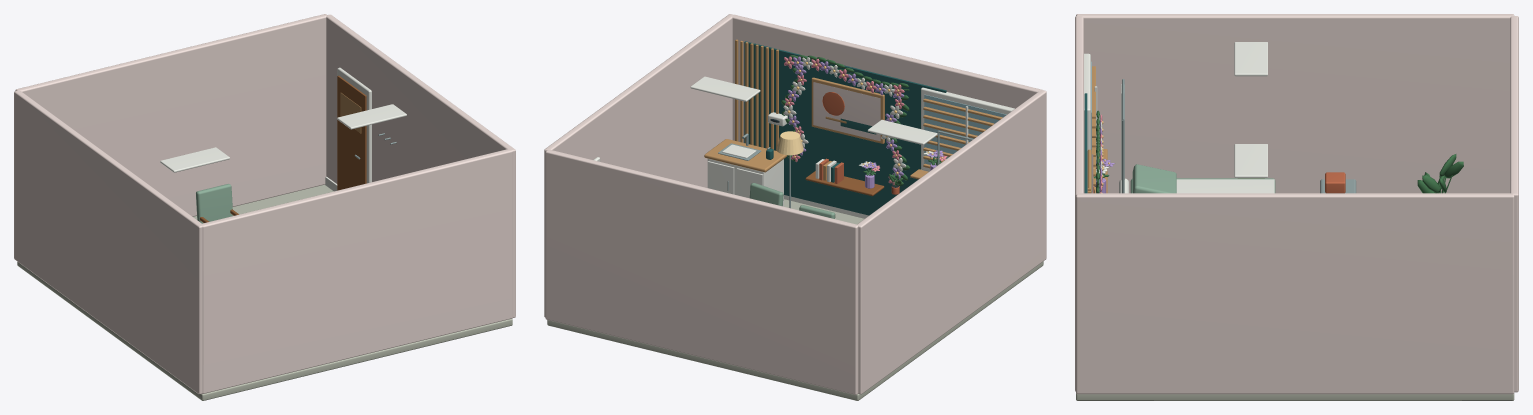
The model's file is DoctorOffice.fbx.
3 views of the same model, side by side, from view 1: azimuth 30°, elevation 25°; view 2: azimuth 150°, elevation 25°; view 3: azimuth 270°, elevation 25° (orthographic). The views are drawn at different scales.
Parts seen in each view (by area): view 1: Body_Office_WallWarm, Body_Office_Floor, Body_Office_White, Body_Office_Wood, Body_Office_Upholstery; view 2: Body_Office_WallWarm, Body_Office_Teal, Body_Office_White, Body_Office_OakLight, Body_Office_Floor, Body_Office_WindowSky, Body_Office_Plant, Body_Office_FlowerLilac, Body_Office_FlowerRose, Body_Office_Terracotta, Body_Office_Upholstery, Body_Office_Wood (+2 smaller); view 3: Body_Office_WallWarm, Body_Office_White, Body_Office_Floor, Body_Office_Upholstery, Body_Office_Plant, Body_Office_OakLight, Body_Office_Metal, Body_Office_Terracotta, Body_Office_Teal.
Boxes of the visible parts, left/top/right/bottom form: Body_Office_WallWarm: left=14, top=14, right=515, bottom=394; Body_Office_Floor: left=17, top=184, right=512, bottom=400; Body_Office_White: left=160, top=67, right=406, bottom=191; Body_Office_Wood: left=200, top=75, right=366, bottom=222; Body_Office_Upholstery: left=196, top=184, right=233, bottom=223; Body_Office_WallWarm: left=544, top=14, right=1046, bottom=394; Body_Office_Teal: left=744, top=41, right=946, bottom=215; Body_Office_White: left=593, top=57, right=1014, bottom=218; Body_Office_OakLight: left=704, top=39, right=1002, bottom=180; Body_Office_Floor: left=547, top=199, right=1043, bottom=400; Body_Office_WindowSky: left=924, top=94, right=1006, bottom=164; Body_Office_Plant: left=781, top=55, right=941, bottom=186; Body_Office_FlowerLilac: left=788, top=56, right=943, bottom=188; Body_Office_FlowerRose: left=784, top=56, right=947, bottom=184; Body_Office_Terracotta: left=819, top=92, right=899, bottom=194; Body_Office_Upholstery: left=749, top=183, right=835, bottom=218; Body_Office_Wood: left=805, top=171, right=884, bottom=196; Body_Office_WallWarm: left=1075, top=14, right=1518, bottom=394; Body_Office_White: left=1084, top=42, right=1274, bottom=193; Body_Office_Floor: left=1076, top=393, right=1514, bottom=400; Body_Office_Upholstery: left=1130, top=164, right=1275, bottom=193; Body_Office_Plant: left=1093, top=110, right=1463, bottom=193; Body_Office_OakLight: left=1087, top=66, right=1107, bottom=193; Body_Office_Metal: left=1122, top=79, right=1356, bottom=193; Body_Office_Terracotta: left=1093, top=172, right=1345, bottom=193; Body_Office_Teal: left=1084, top=93, right=1094, bottom=193.
Size of the model in its own units: 592 by 313 by 607.
